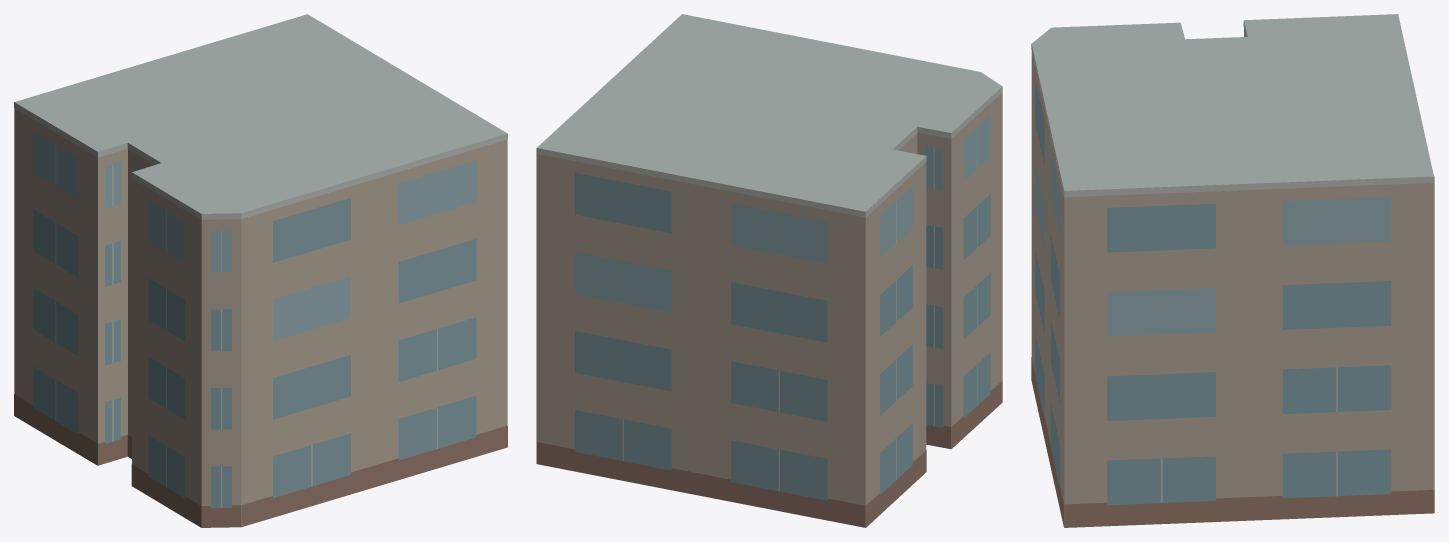
File: survey-upis-32622346.glb
3 views of the same model, side by side, from view 1: azimuth 30°, elevation 25°; view 2: azimuth 150°, elevation 25°; view 3: azimuth 270°, elevation 25° (orthographic). The views are drawn at different scales.
Visible parts, largest first — view 1: survey-upis-32622346.tmp; view 2: survey-upis-32622346.tmp; view 3: survey-upis-32622346.tmp.
Boxes of the visible parts, <box> form: survey-upis-32622346.tmp: <box>14,14,507,527</box>; survey-upis-32622346.tmp: <box>536,14,1002,527</box>; survey-upis-32622346.tmp: <box>1031,14,1434,527</box>.
Size of the model in its own units: 14.66 by 13 by 14.1.
